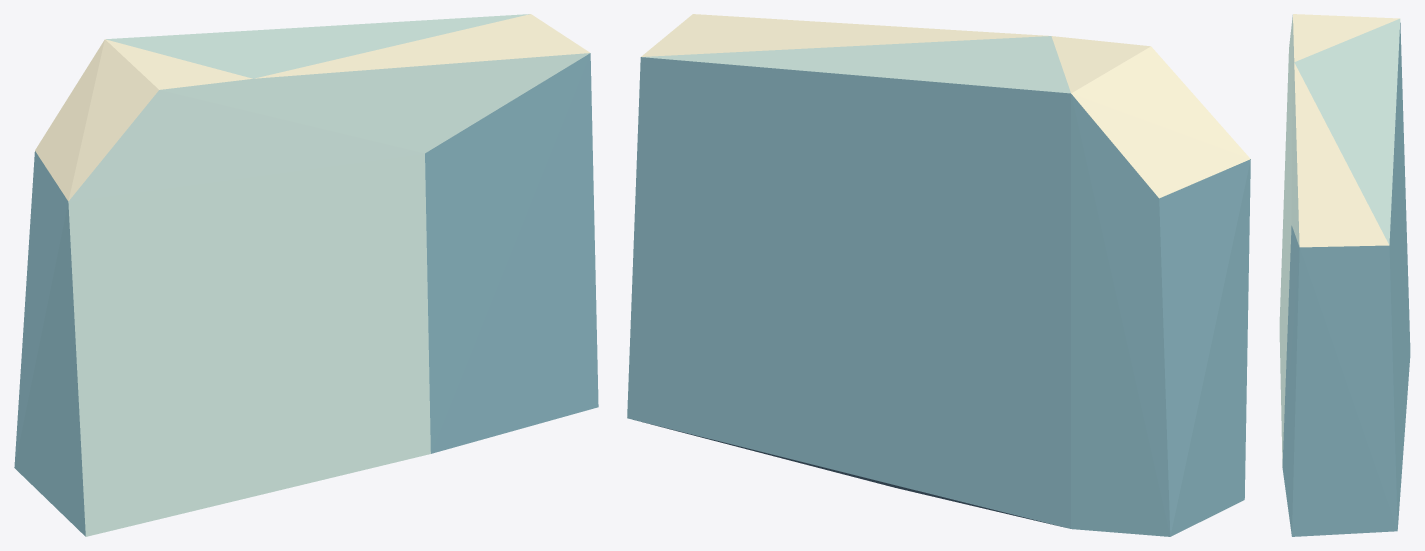
File: earth_slab.glb
3 renders of one model, left to right at view 1: azimuth 30°, elevation 25°; view 2: azimuth 150°, elevation 25°; view 3: azimuth 270°, elevation 25°, orthographic. The views are drawn at different scales.
Visible parts, largest first — view 1: earth_slab; view 2: earth_slab; view 3: earth_slab.
Boxes of the visible parts, x1=… form: earth_slab: x1=14, y1=14, x2=598, y2=536; earth_slab: x1=627, y1=14, x2=1250, y2=536; earth_slab: x1=1279, y1=14, x2=1410, y2=536.
Bounding box in the file's own units: 2.45 × 1.87 × 0.6384.
